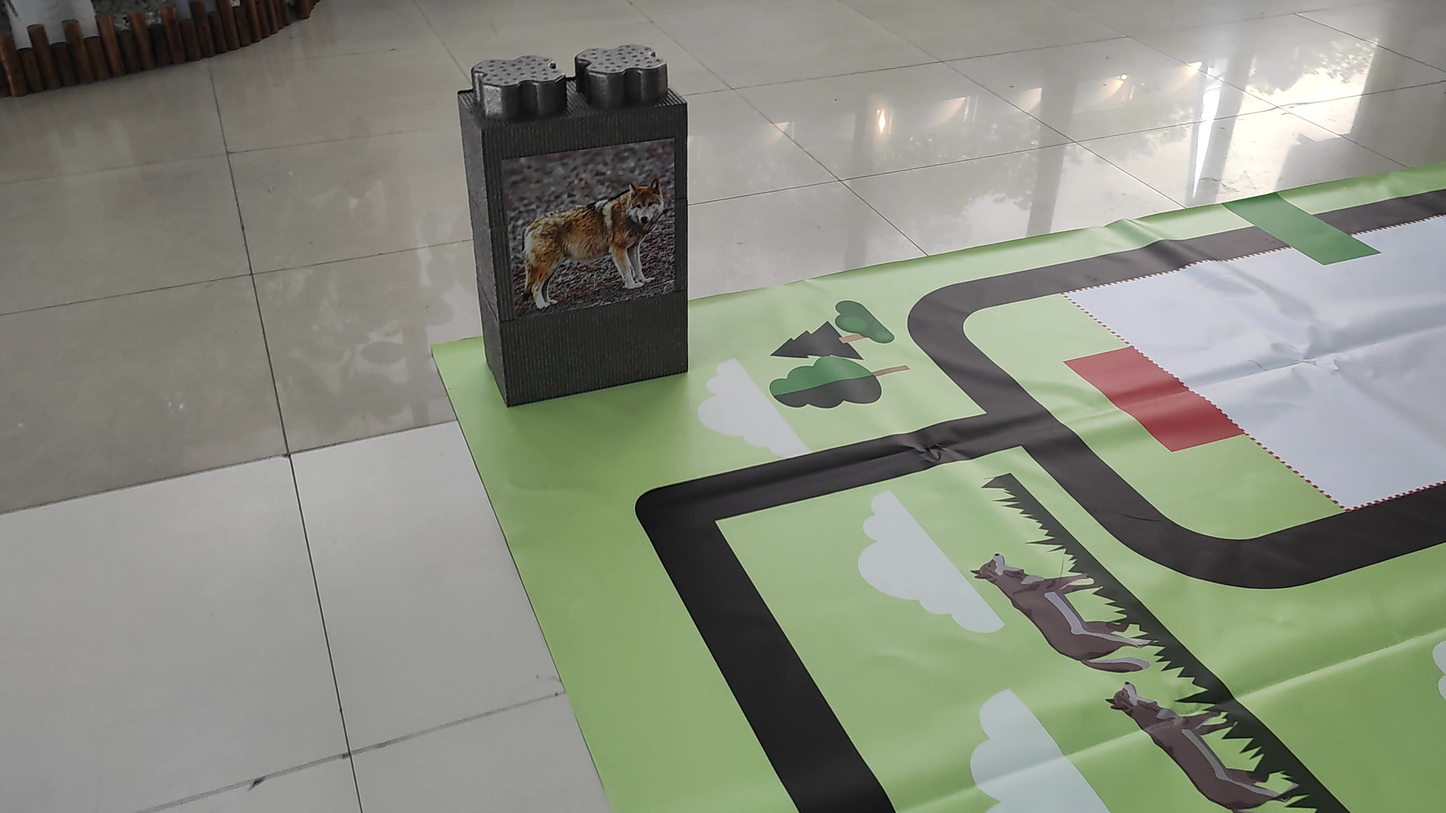wolf: (500, 162, 679, 315)
